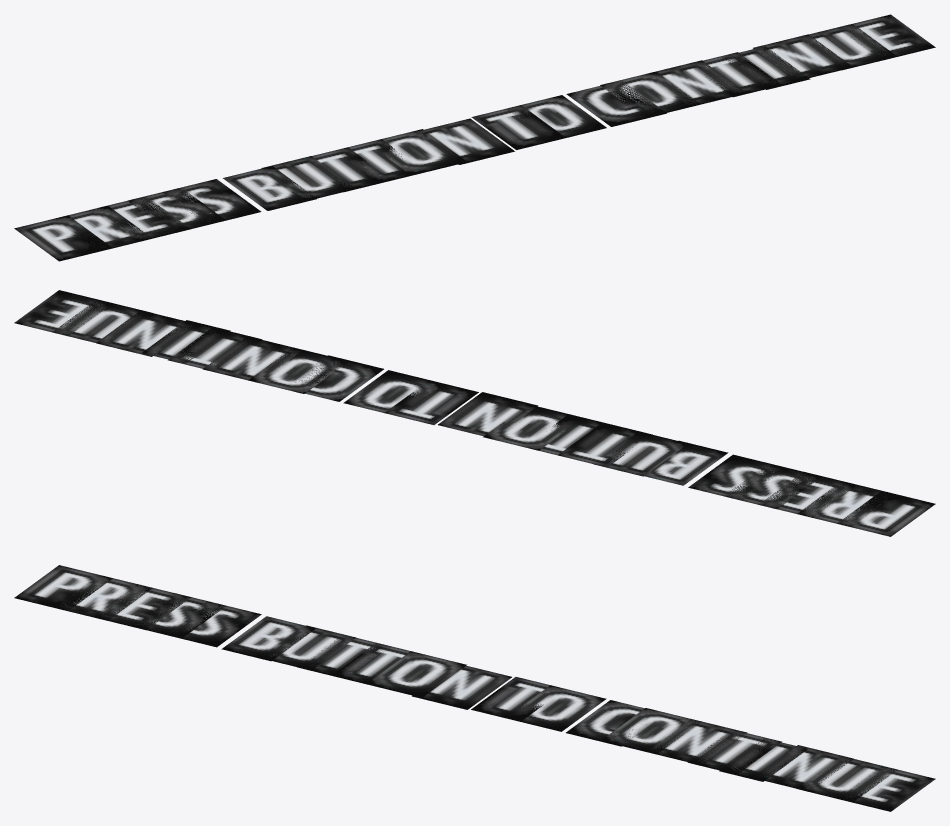
Rendered from Press Button To Continue.FBX.
3 views of the same model, one above another, from view 1: azimuth 30°, elevation 25°; view 2: azimuth 150°, elevation 25°; view 3: azimuth 330°, elevation 25° (orthographic).
Parts seen in each view (by area): view 1: Press Button To Continue; view 2: Press Button To Continue; view 3: Press Button To Continue.
Part boxes in pixels (left/top/right/bottom): Press Button To Continue: left=14, top=14, right=935, bottom=261; Press Button To Continue: left=14, top=290, right=935, bottom=536; Press Button To Continue: left=14, top=565, right=935, bottom=811.
Bounding box in the file's own units: 298 × 27.57 × 0.
